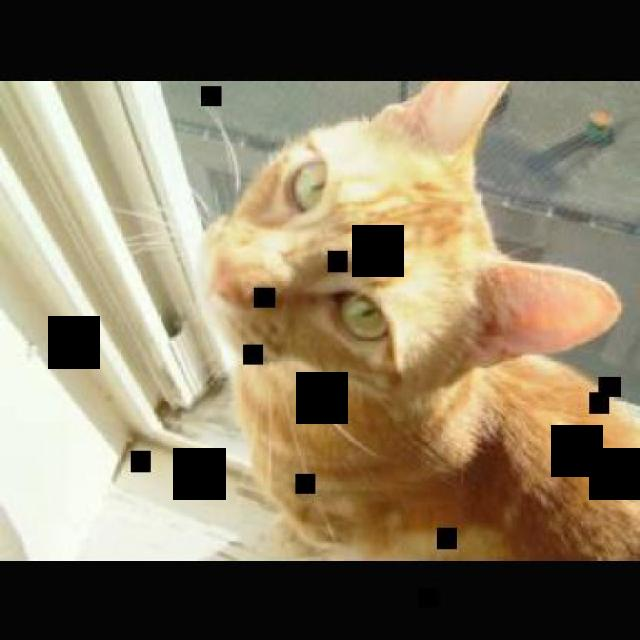unauthorized: (114, 77, 638, 560)
